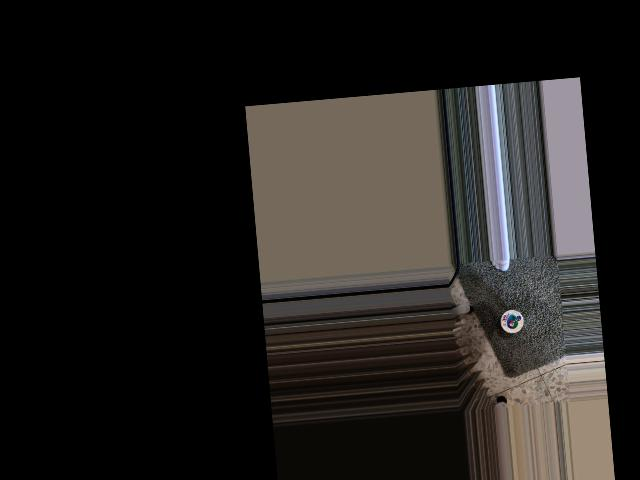cotage: (499, 309, 525, 334)
